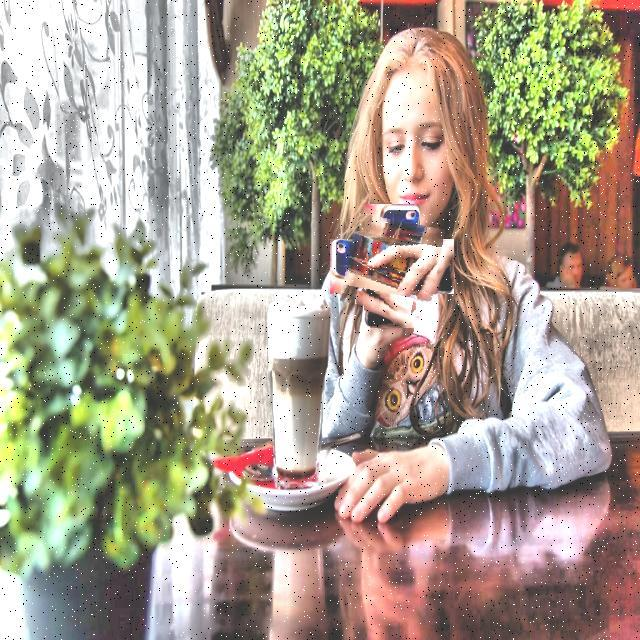Phone: (344, 218, 442, 314)
